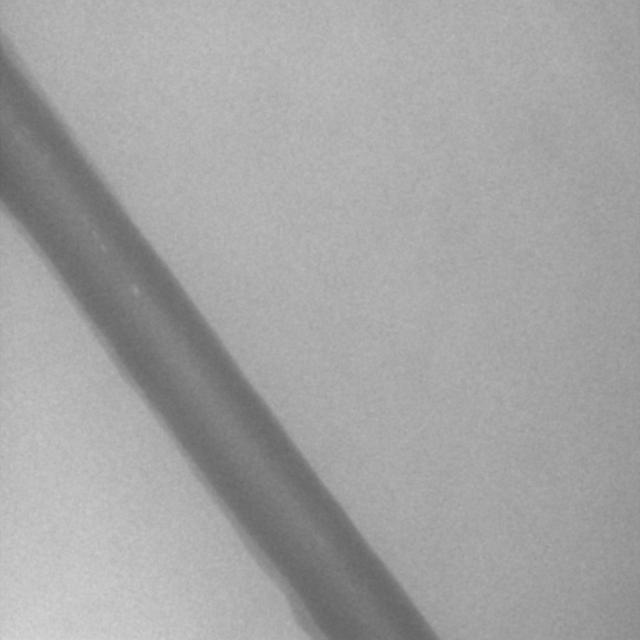air hole: (129, 282, 141, 298)
